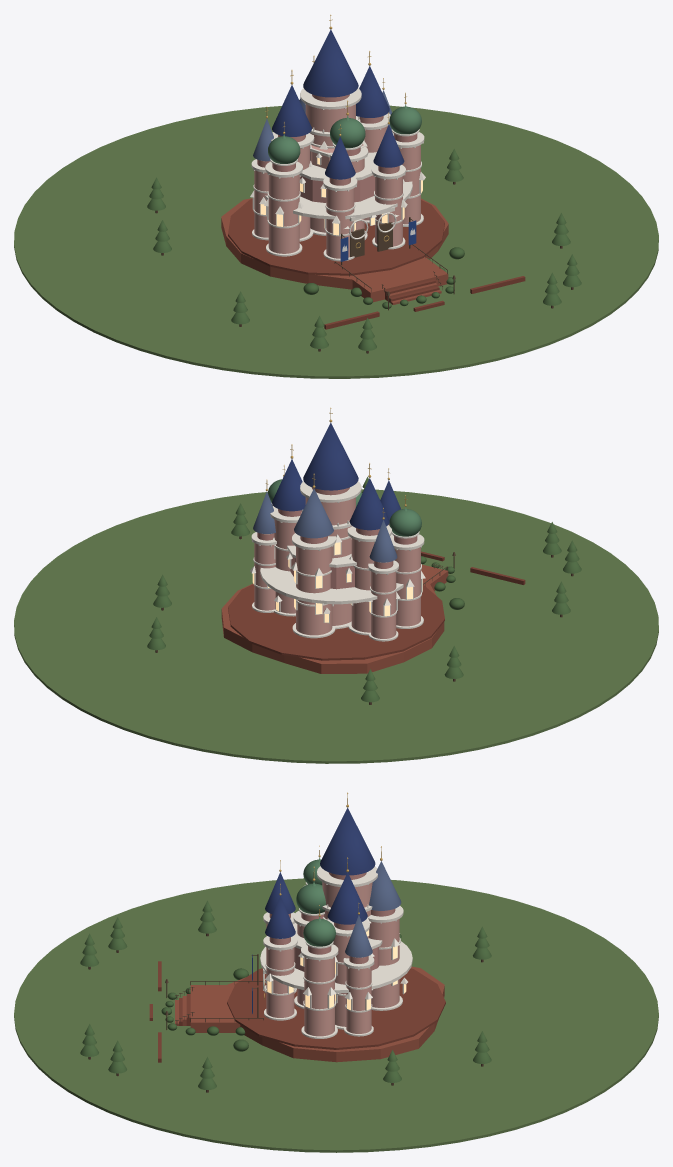
File: castle_ref_model.glb
The picture shows the model from 3 angles, top to bottom: view 1: azimuth 30°, elevation 25°; view 2: azimuth 150°, elevation 25°; view 3: azimuth 270°, elevation 25°; orthographic projection.
Visible parts, largest first — view 1: Ground_Meadow, Rock_Podium_Cap, Tower_C1_Main_Spire, Tower_L2_Shaft, Rock_Podium, Forecourt, Tower_L3_Shaft, Mass_Podium_Cornice, Tower_C1_Main_Shaft, Tower_L1_Spire, Tower_R3_Shaft, Tower_R2_Shaft (+10 smaller); view 2: Ground_Meadow, Rock_Podium_Cap, Rock_Podium, Tower_C3_Rear_Shaft, Tower_C1_Main_Spire, Mass_Podium_Cornice, Tower_L2_Shaft, Tower_L4_Shaft, Tower_C1_Main_Shaft, Tower_L1_Shaft, Tower_L1_Spire, Tower_C3_Rear_Spire (+8 smaller); view 3: Ground_Meadow, Rock_Podium_Cap, Rock_Podium, Tower_C1_Main_Spire, Tower_R2_Shaft, Mass_Podium_Cornice, Forecourt, Tower_R3_Shaft, Tower_C3_Rear_Shaft, Tower_R4_Shaft, Tower_R1_Spire, Tower_C3_Rear_Spire (+8 smaller).
Part boxes in pixels (x1,y1,x2,y2): Ground_Meadow: (14, 105, 658, 378); Rock_Podium_Cap: (228, 199, 444, 275); Tower_C1_Main_Spire: (303, 29, 358, 97); Tower_L2_Shaft: (268, 174, 299, 253); Rock_Podium: (221, 198, 448, 289); Forecourt: (348, 257, 448, 302); Tower_L3_Shaft: (326, 188, 354, 258); Mass_Podium_Cornice: (265, 181, 412, 219); Tower_C1_Main_Shaft: (305, 104, 355, 232); Tower_L1_Spire: (272, 85, 311, 136); Tower_R3_Shaft: (375, 176, 402, 246); Tower_R2_Shaft: (399, 145, 420, 224); Ground_Meadow: (14, 489, 658, 763); Rock_Podium_Cap: (228, 584, 444, 660); Rock_Podium: (221, 581, 444, 673); Tower_C3_Rear_Shaft: (296, 546, 332, 635); Tower_C1_Main_Spire: (303, 423, 358, 490); Mass_Podium_Cornice: (260, 567, 403, 604); Tower_L2_Shaft: (394, 547, 420, 626); Tower_L4_Shaft: (371, 571, 396, 638); Tower_C1_Main_Shaft: (305, 497, 355, 625); Tower_L1_Shaft: (351, 538, 374, 632); Tower_L1_Spire: (349, 478, 389, 530); Tower_C3_Rear_Spire: (294, 488, 333, 538); Ground_Meadow: (14, 878, 658, 1152); Rock_Podium_Cap: (227, 968, 445, 1049); Rock_Podium: (216, 966, 444, 1062); Tower_C1_Main_Spire: (320, 807, 375, 875); Tower_R2_Shaft: (304, 957, 334, 1036); Mass_Podium_Cornice: (260, 941, 412, 993); Forecourt: (190, 985, 240, 1032); Tower_R3_Shaft: (266, 947, 294, 1017); Tower_C3_Rear_Shaft: (369, 919, 399, 1007); Tower_R4_Shaft: (346, 966, 371, 1033); Tower_R1_Spire: (327, 872, 367, 924); Tower_C3_Rear_Spire: (369, 861, 401, 910).
Bounding box in the file's own units: 230 × 88.29 × 230.
